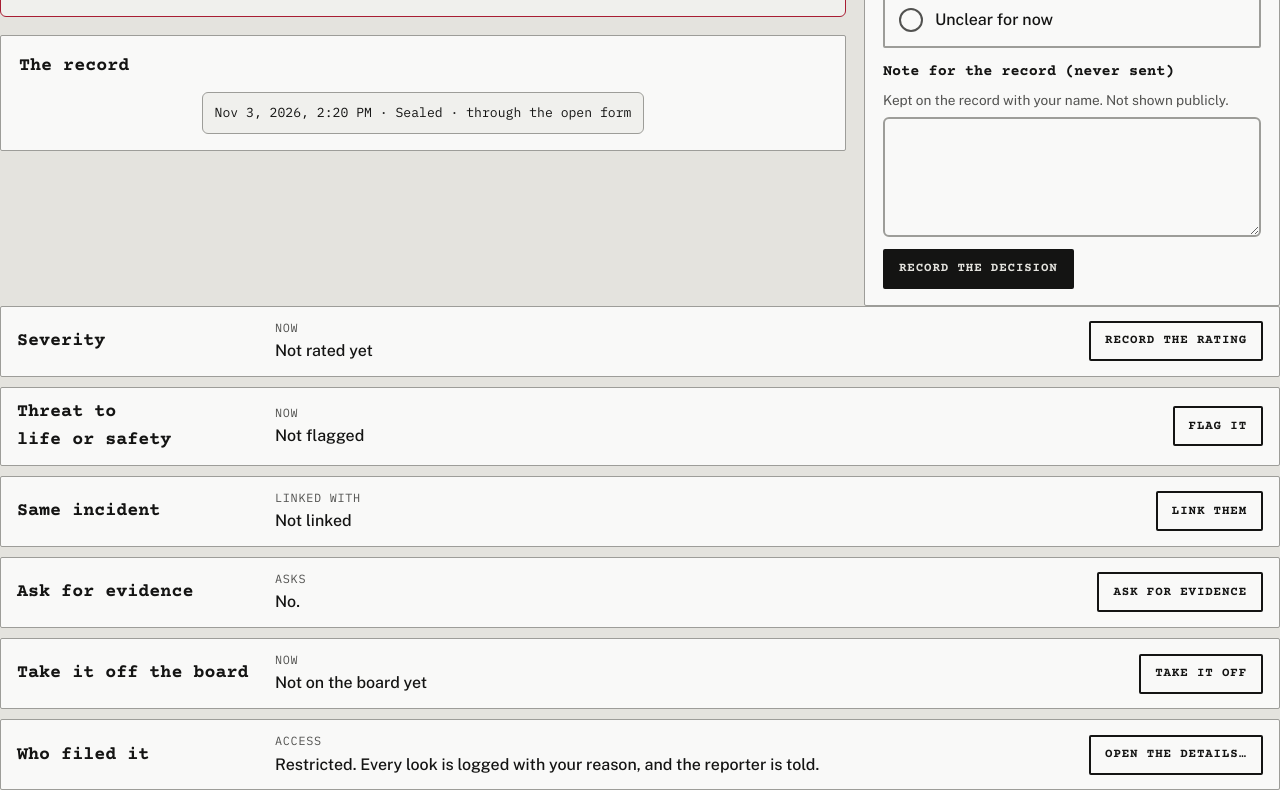
Test case: who filed it › sends nothing without a written reason, and closing shows nothing
(page scrolled)
Expected: the element "Who filed it" shows "Restricted. Every look is logged with your reason, and the reporter is told.", [275,754,819,774]
What coordinates should you click on to do the following:
click the button "Open the details…"
I would click on:
 (1176, 755)
Its box is [1089,735,1263,775].
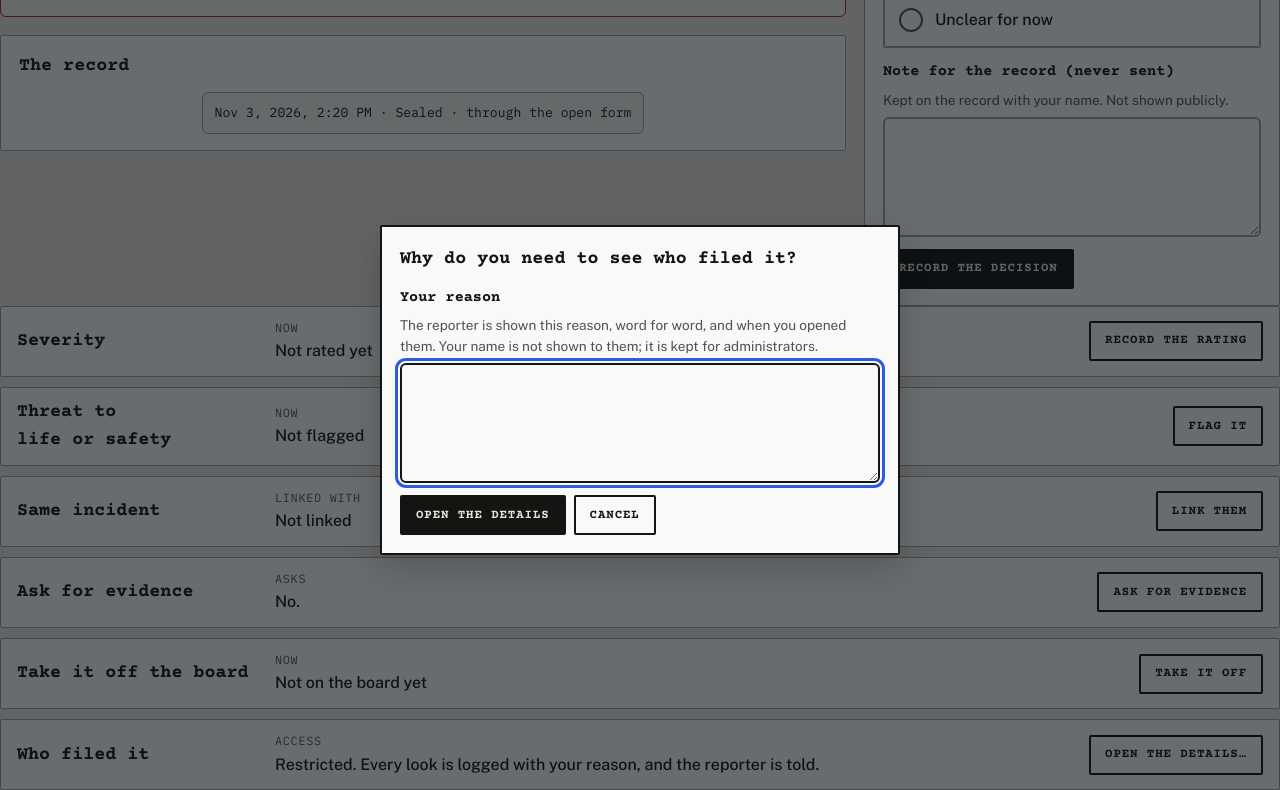
What coordinates should you click on to do the following:
click the button "Open the details"
I would click on:
 (483, 515)
Its box is [400,495,566,535].
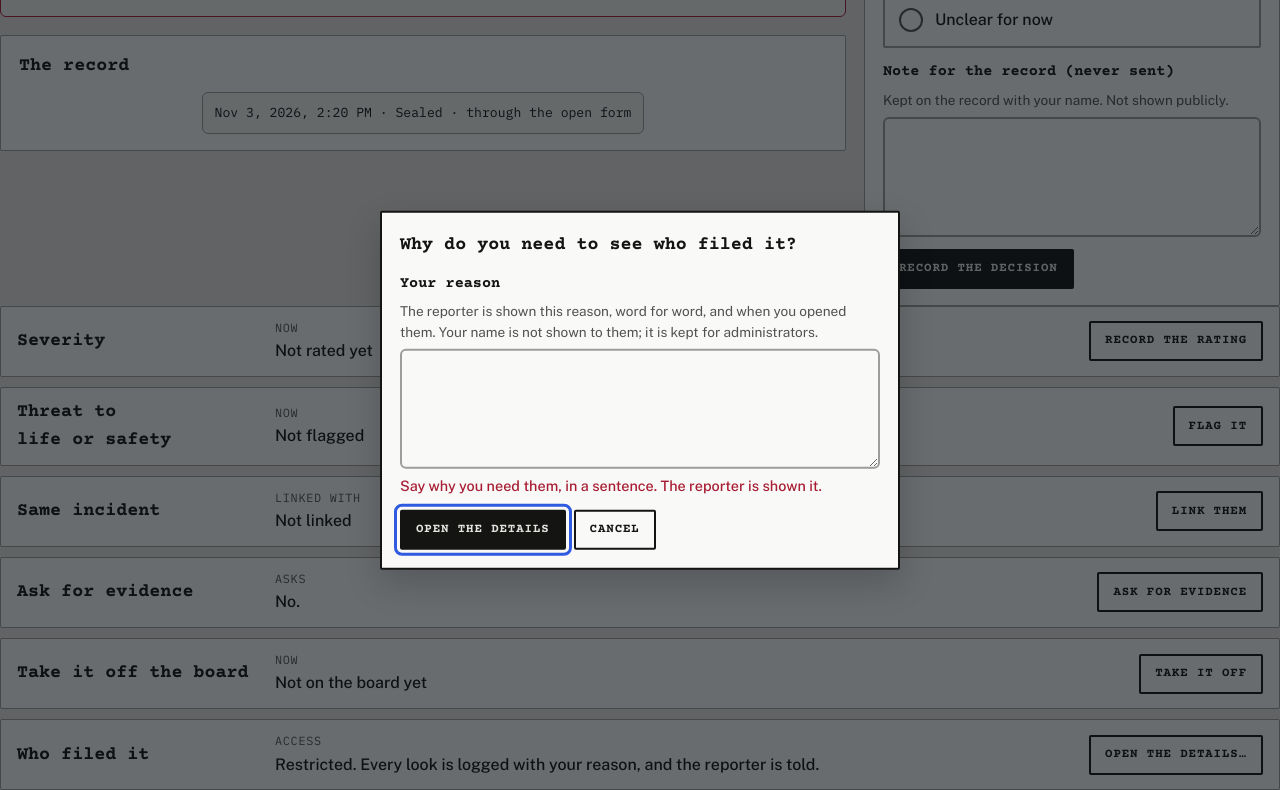
Now the text "Say why you need them, in a sentence. The reporter is shown it." is shown, box [400,475,880,497]
What coordinates should you click on to do the following:
click the button "Cancel"
I would click on:
 (615, 529)
Its box is [574,509,656,549].
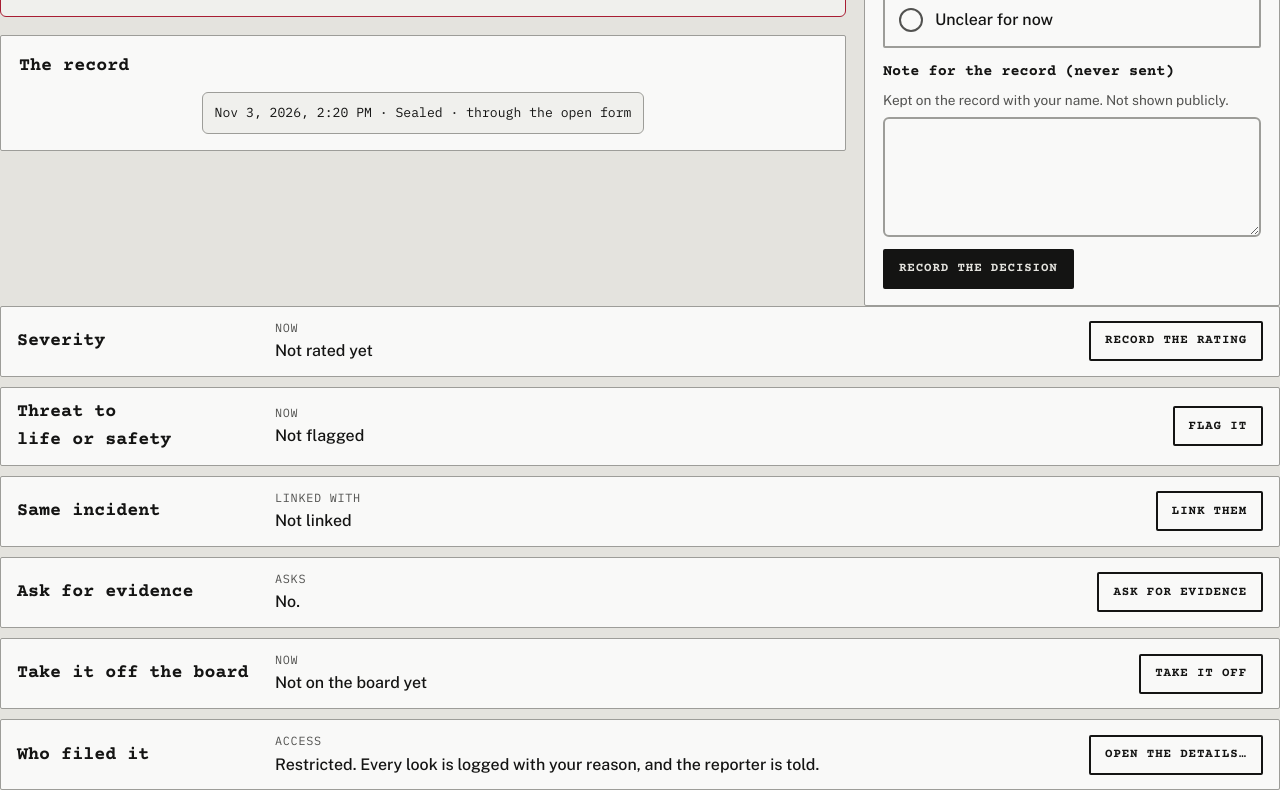
Expected: the element "Who filed it" shows "Restricted. Every look is logged with your reason, and the reporter is told.", [275,754,819,774]
Now the dialog is gone
